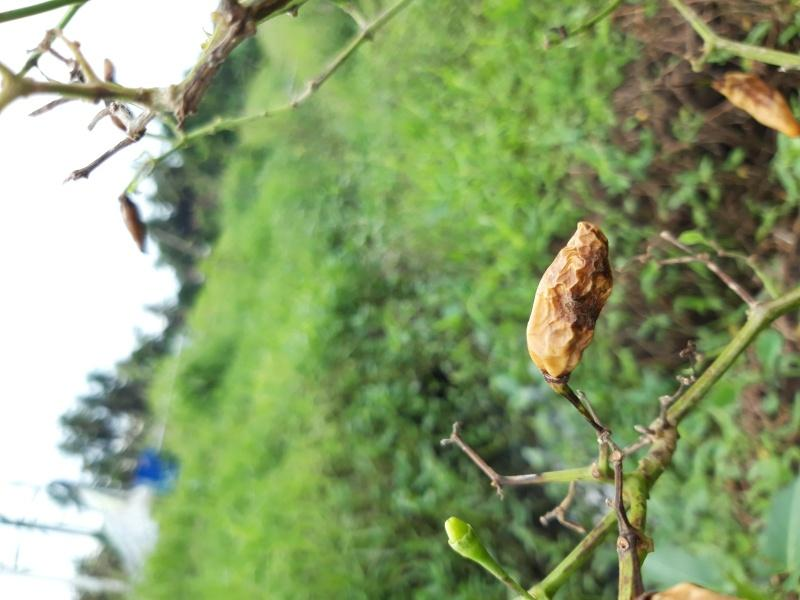antraknosa: (527, 221, 615, 374), (711, 72, 800, 138)
